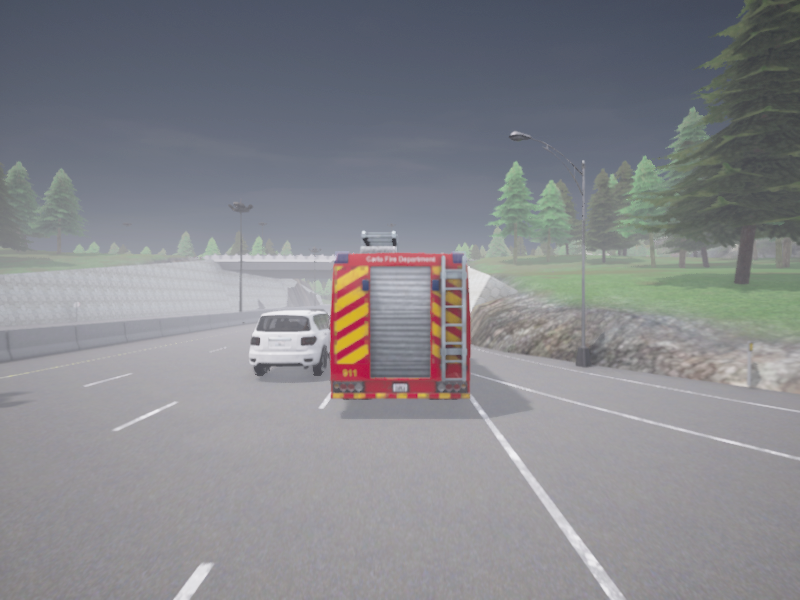vehicle: (330, 231, 470, 398), (249, 310, 329, 374), (304, 309, 329, 317)
